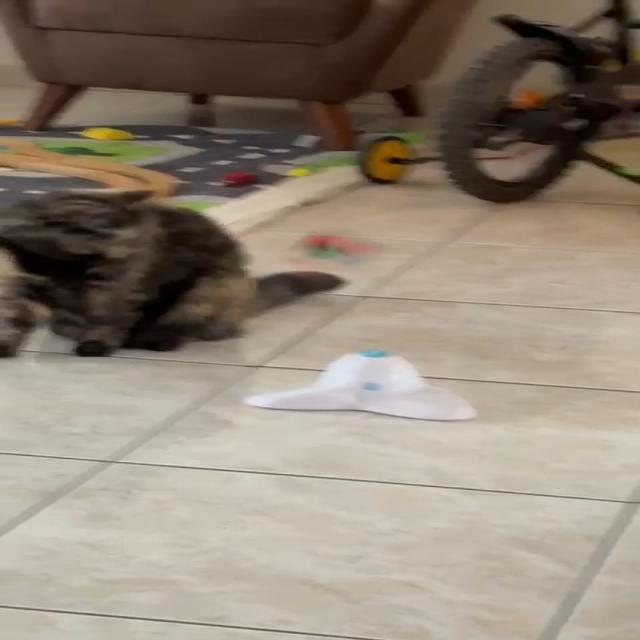authorized: (0, 187, 349, 357)
